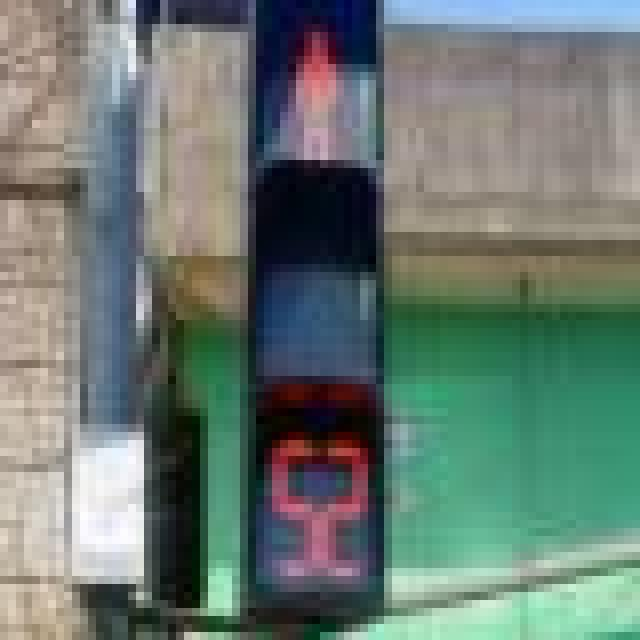redlight: (232, 1, 400, 407)
